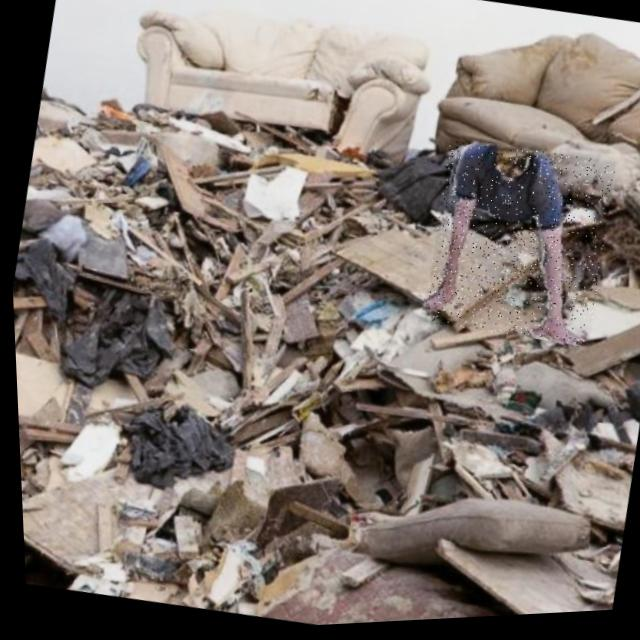Person in Rubble: (414, 137, 621, 358)
